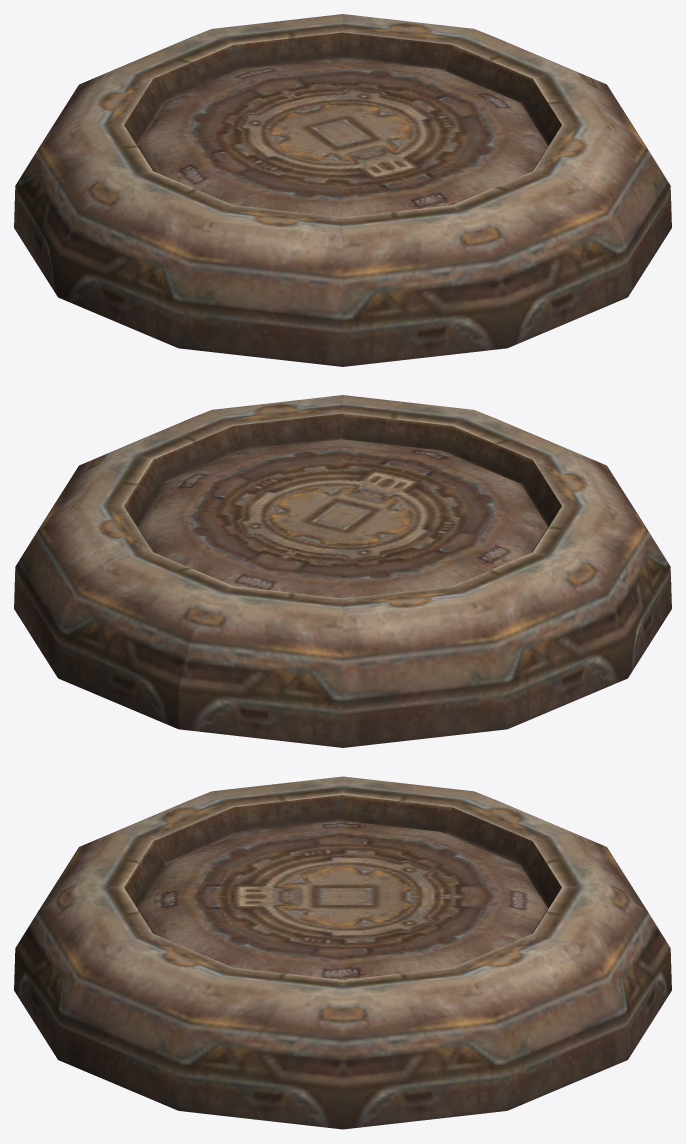
The model's file is yw_leinabao_wujian01.FBX.
The picture shows the model from 3 angles, top to bottom: view 1: azimuth 30°, elevation 25°; view 2: azimuth 150°, elevation 25°; view 3: azimuth 270°, elevation 25°; orthographic projection.
Visible parts, largest first — view 1: yw_leinabao_wujian01; view 2: yw_leinabao_wujian01; view 3: yw_leinabao_wujian01.
Boxes of the visible parts, bbox=[...] form: yw_leinabao_wujian01: bbox=[14, 14, 671, 366]; yw_leinabao_wujian01: bbox=[14, 395, 671, 747]; yw_leinabao_wujian01: bbox=[14, 776, 671, 1129].
Size of the model in its own units: 585 by 101 by 585.
